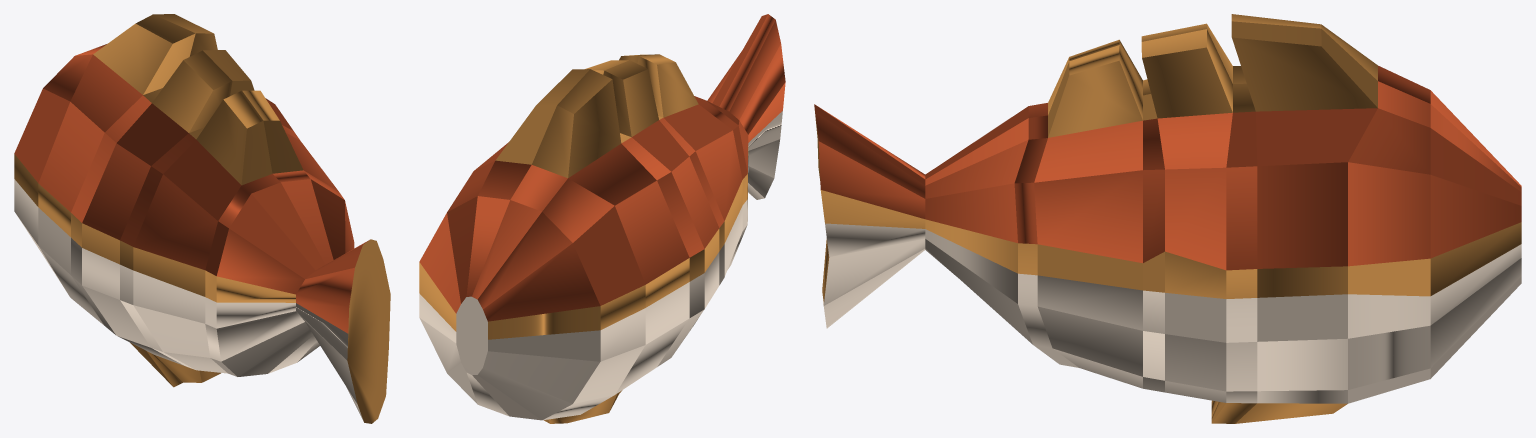
File: fish06.fbx
3 renders of one model, left to right at view 1: azimuth 30°, elevation 25°; view 2: azimuth 150°, elevation 25°; view 3: azimuth 270°, elevation 25°, orthographic. The views are drawn at different scales.
Parts seen in each view (by area): view 1: Cube; view 2: Cube; view 3: Cube.
Boxes of the visible parts, box(x1,y1,x2,y2) form: Cube: box(14, 14, 390, 423); Cube: box(419, 14, 785, 423); Cube: box(814, 14, 1521, 423).
Bounding box in the file's own units: 50.42 × 74.11 × 117.
